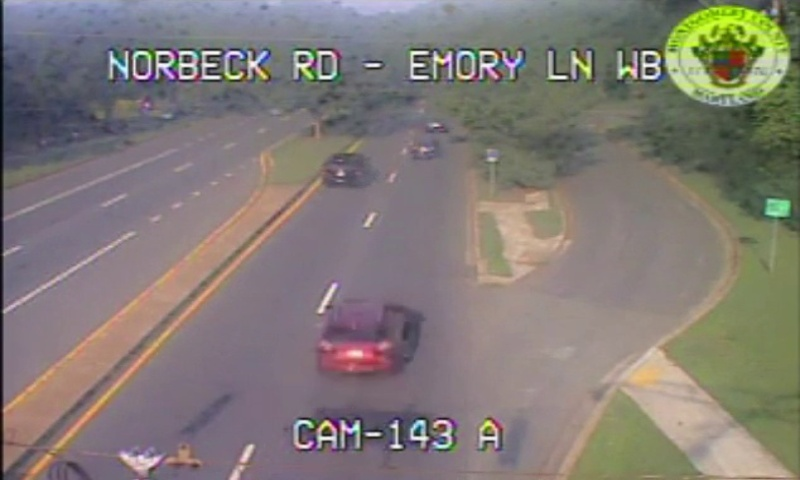car: (316, 301, 394, 374), (320, 152, 365, 186)
